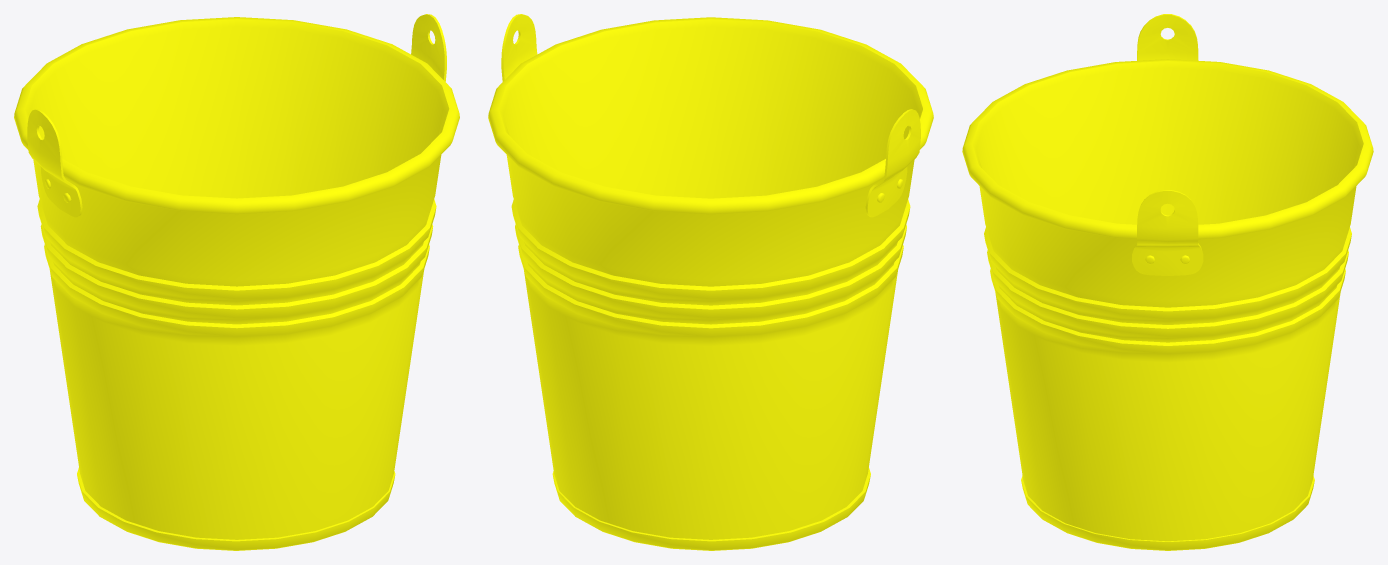
File: SM_Bucket_01.glb
3 renders of one model, left to right at view 1: azimuth 30°, elevation 25°; view 2: azimuth 150°, elevation 25°; view 3: azimuth 270°, elevation 25°, orthographic. The views are drawn at different scales.
Visible parts, largest first — view 1: SM_Bucket_01_LOD0; view 2: SM_Bucket_01_LOD0; view 3: SM_Bucket_01_LOD0.
Part boxes in pixels (x1,y1,x2,y2): SM_Bucket_01_LOD0: (14,14,459,550); SM_Bucket_01_LOD0: (488,14,933,550); SM_Bucket_01_LOD0: (962,14,1373,550).
Size of the model in its own units: 0.4477 by 0.4567 by 0.4378.
1 material, 1 textured.
